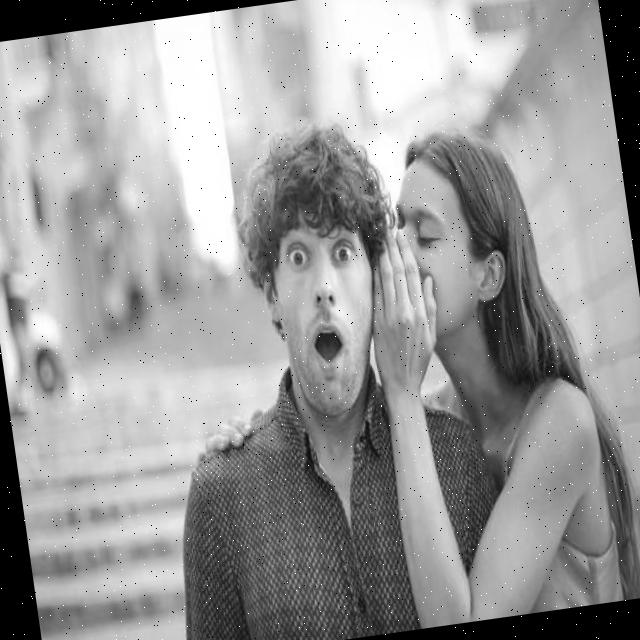Surprised: (264, 200, 392, 423)
